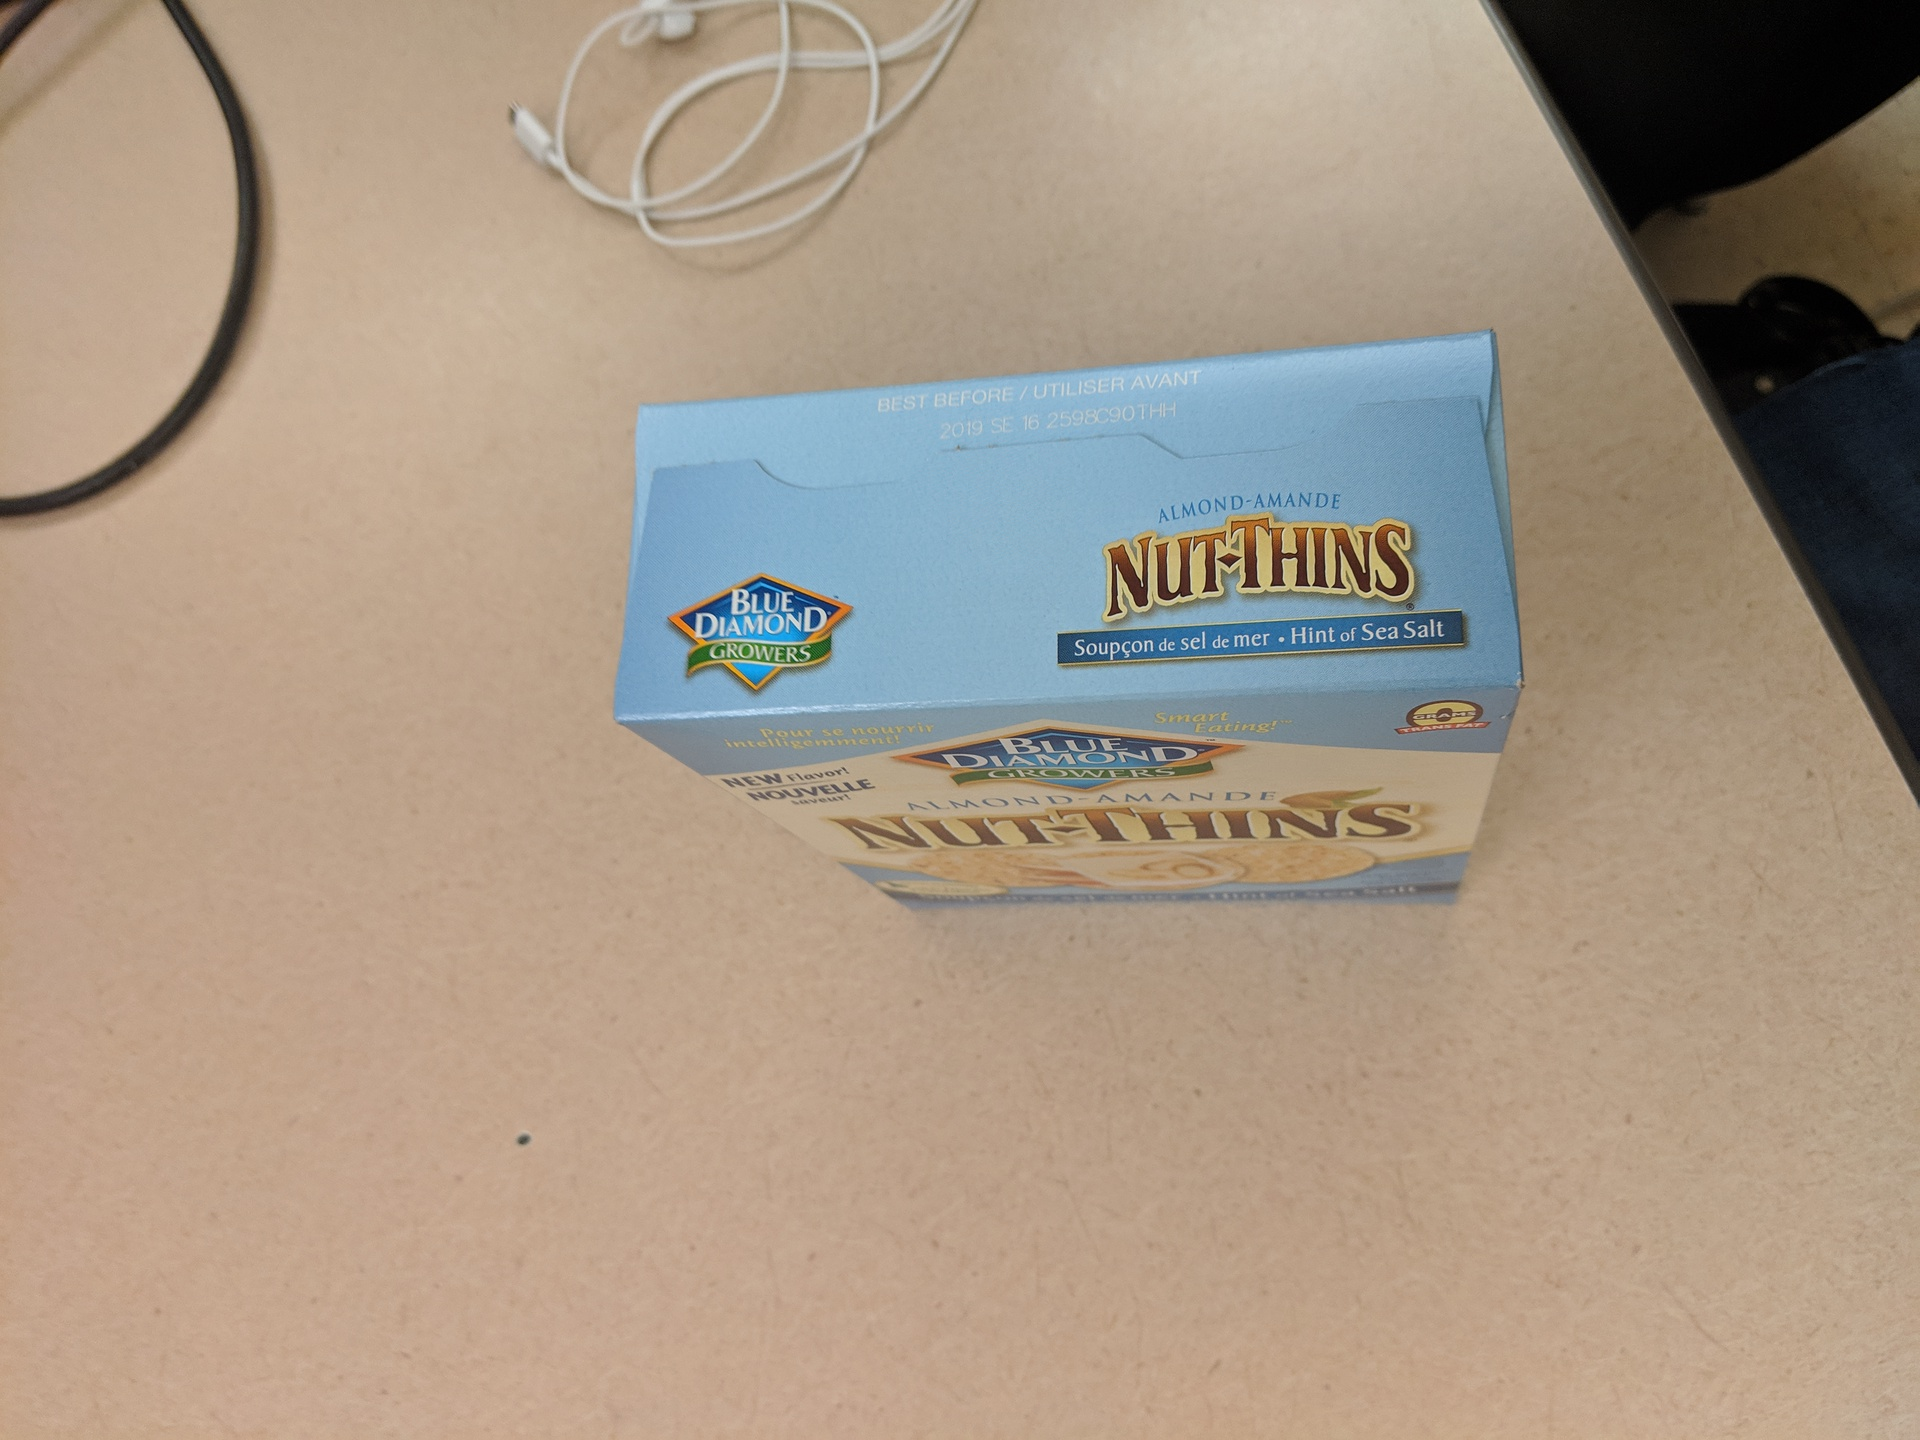blue_diamond_nut_thins_almond_seasalt: (568, 327, 1593, 908)
